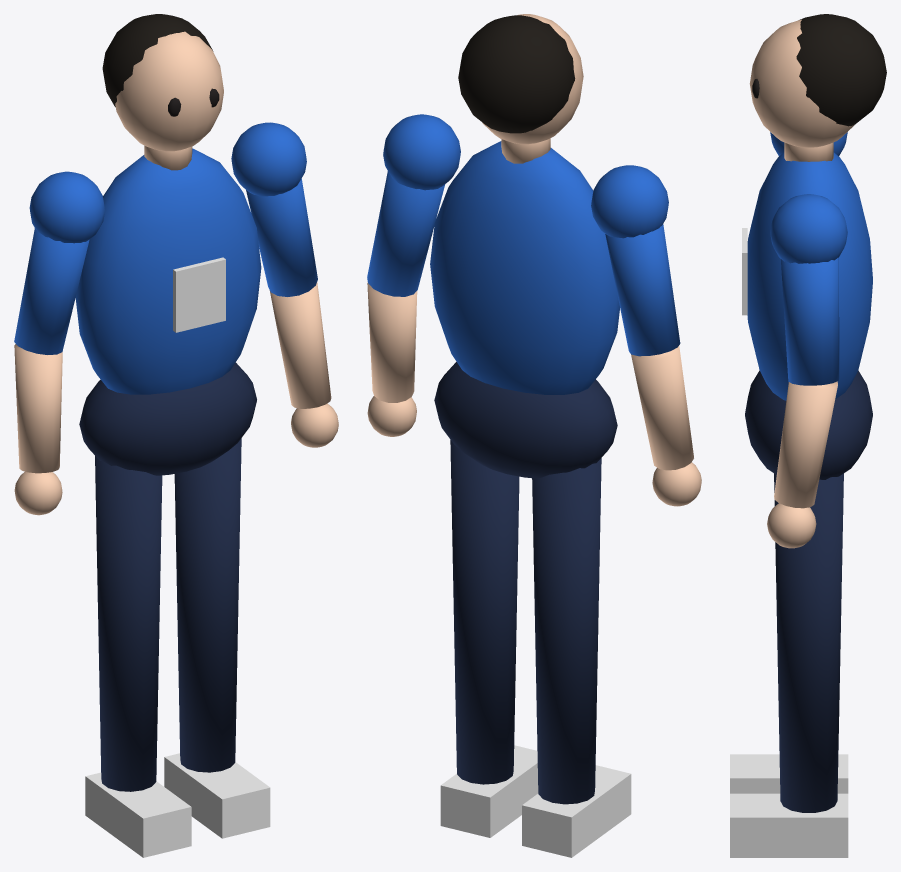
File: kai.glb
The picture shows the model from 3 angles, left to right: view 1: azimuth 30°, elevation 25°; view 2: azimuth 150°, elevation 25°; view 3: azimuth 270°, elevation 25°; orthographic projection. The views are drawn at different scales.
Visible parts, largest first — view 1: kai; view 2: kai; view 3: kai.
Part boxes in pixels (x1,y1,x2,y2): kai: [14, 14, 338, 857]; kai: [367, 14, 701, 857]; kai: [730, 14, 886, 857].
Size of the model in its own units: 0.8094 by 1.92 by 0.338.
